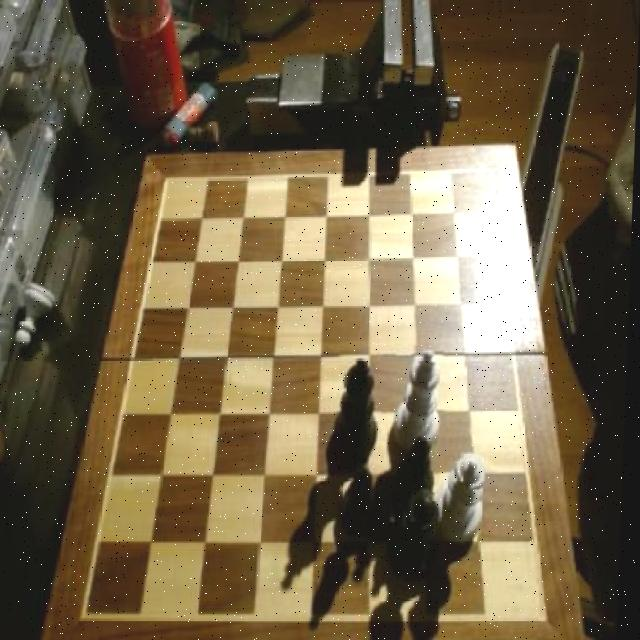bishop: (345, 468, 390, 554), (396, 437, 441, 508)
black-bishop: (337, 355, 386, 467)
black-pawn: (389, 491, 445, 579)
white-bishop: (398, 346, 450, 454)
white-pawn: (441, 445, 492, 553)
